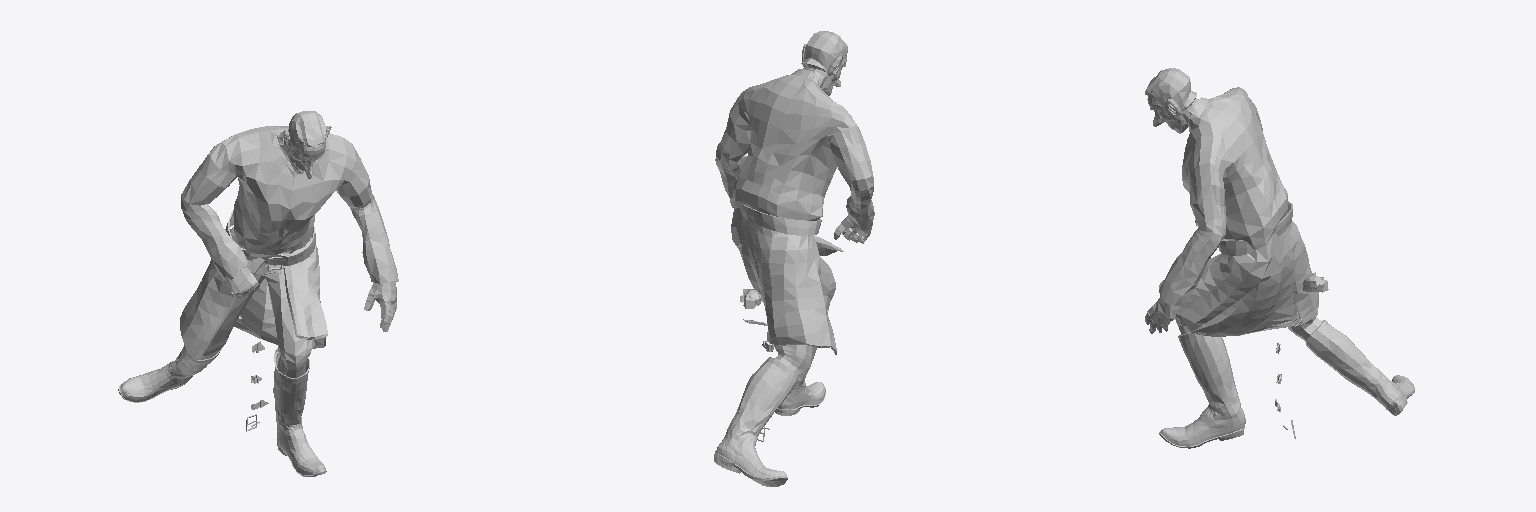
The model's file is sniper-inj-walk_joined_000013.obj.
3 renders of one model, left to right at view 1: azimuth 30°, elevation 25°; view 2: azimuth 150°, elevation 25°; view 3: azimuth 270°, elevation 25°, orthographic.
Parts seen in each view (by area): view 1: Shoes; view 2: Shoes; view 3: Shoes.
Part boxes in pixels (left/top/right/bottom): Shoes: left=118, top=111, right=398, bottom=476; Shoes: left=714, top=31, right=874, bottom=486; Shoes: left=1145, top=68, right=1414, bottom=448.
Size of the model in its own units: 1.12 by 2.25 by 1.5.